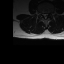CCS_normal: (44, 11, 46, 20)
LFS_severe_stenosis: (48, 11, 50, 16)
LLS_normal: (46, 11, 48, 18)
RFS_severe_stenosis: (40, 11, 42, 16)
RLS_normal: (42, 11, 44, 18)
